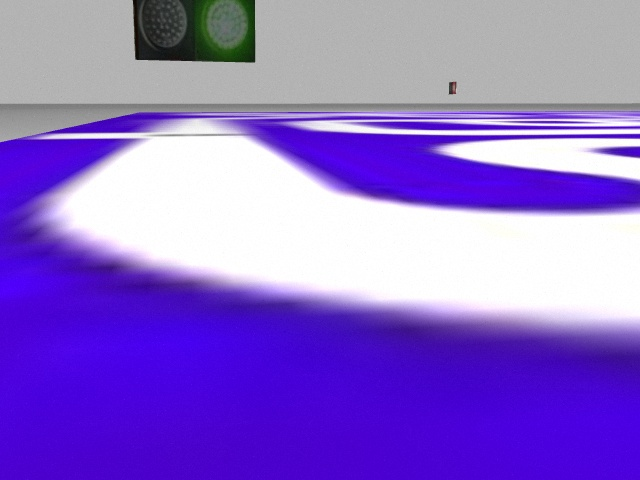green: (194, 2, 256, 65)
